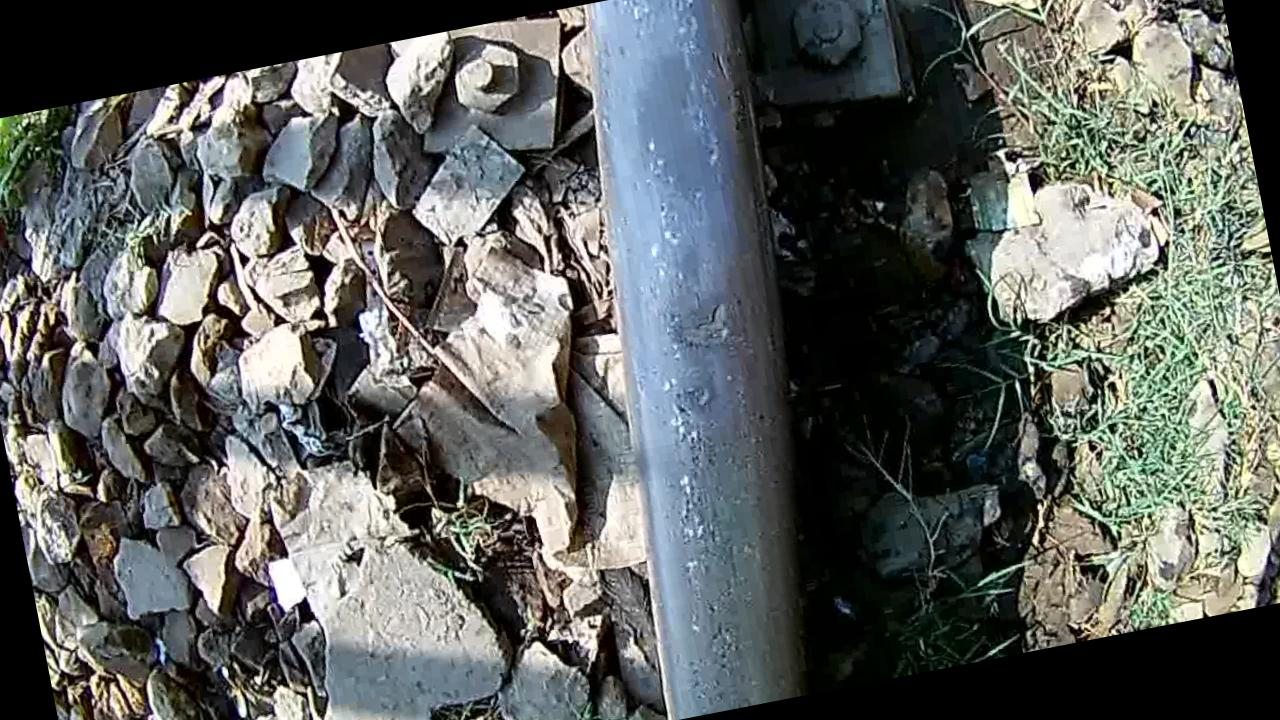bolt_missing: (558, 0, 861, 716)
